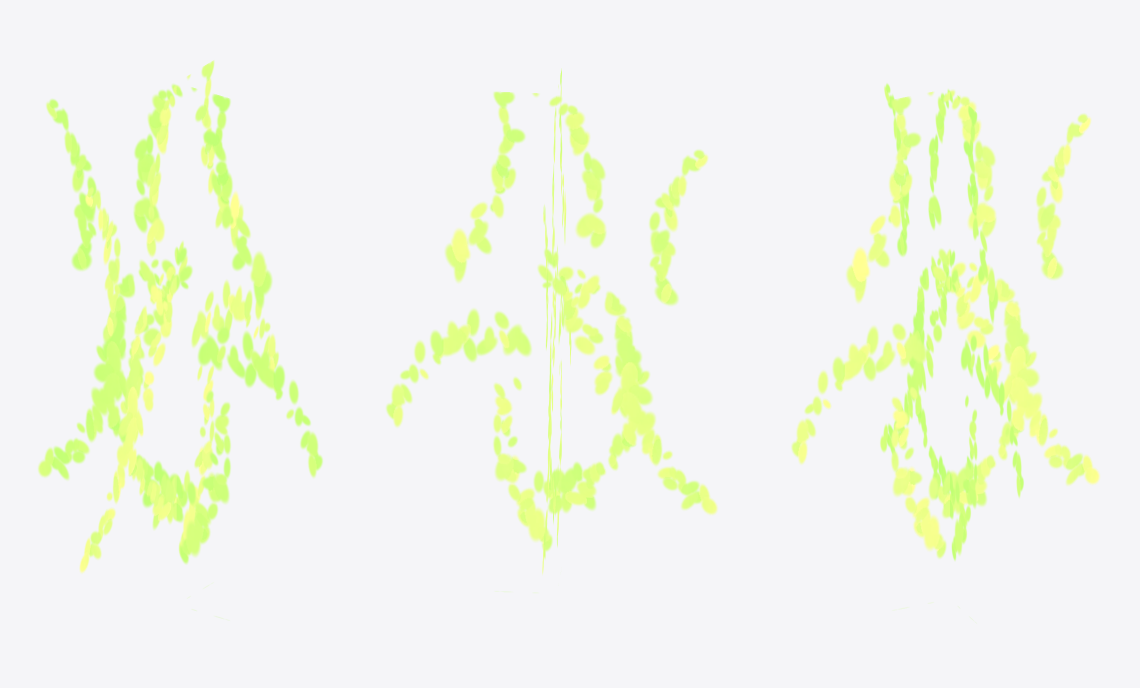
File: Foliage.glb
The picture shows the model from 3 angles, left to right: view 1: azimuth 30°, elevation 25°; view 2: azimuth 150°, elevation 25°; view 3: azimuth 270°, elevation 25°; orthographic projection. The views are drawn at different scales.
Parts seen in each view (by area): view 1: Foliage; view 2: Foliage; view 3: Foliage.
Boxes of the visible parts, bbox=[...] form: Foliage: bbox=[38, 60, 322, 617]; Foliage: bbox=[386, 68, 717, 574]; Foliage: bbox=[791, 83, 1099, 608].
Bounding box in the file's own units: 1.99 × 3.2 × 1.99.
Materials: 2 (2 with a texture image).
